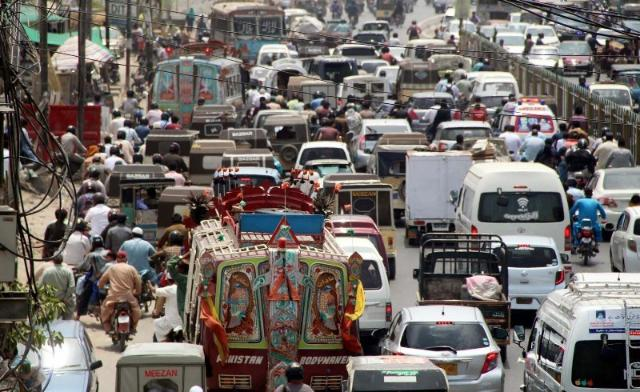Bike: (105, 299, 136, 351), (578, 218, 597, 265)
Bus: (189, 187, 354, 390), (149, 51, 249, 114)
Car: (378, 305, 507, 392)
Person: (98, 251, 142, 310), (570, 186, 604, 227)
Rickshaw: (336, 179, 394, 242)
Suzuki: (412, 226, 513, 348)
Truck: (401, 149, 474, 244)
Van: (518, 269, 640, 392), (457, 158, 573, 267)
